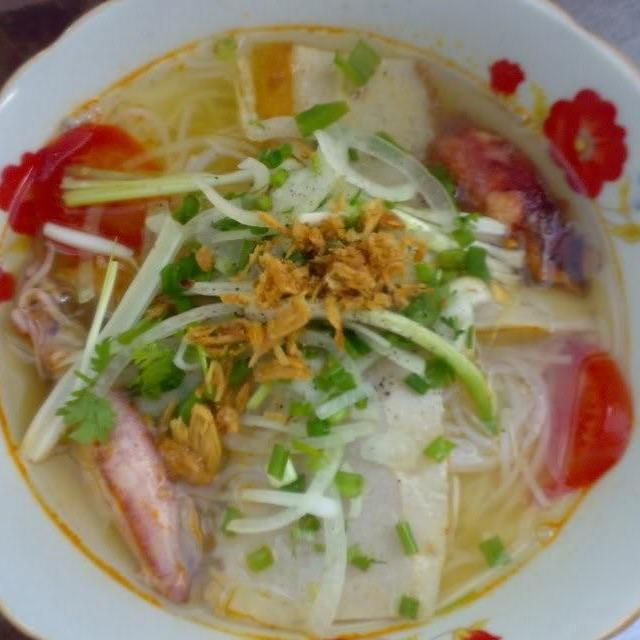bun: (438, 324, 596, 574)
muc: (0, 235, 204, 611)
